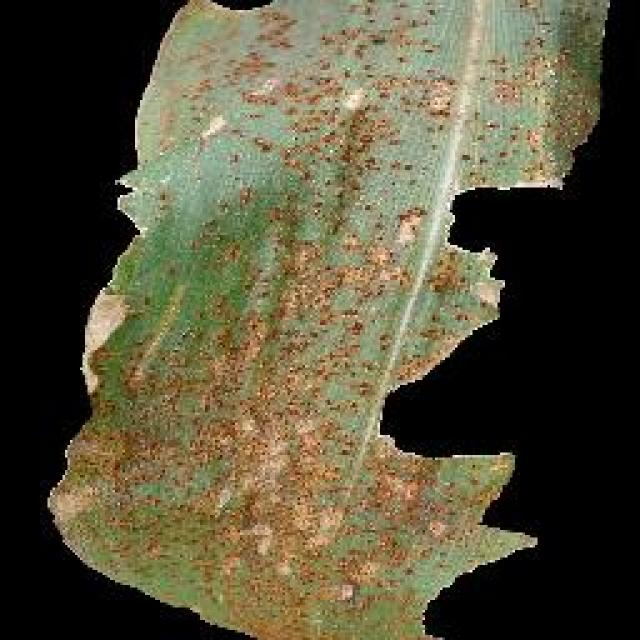Corn___Common_rust: (27, 0, 625, 640)
